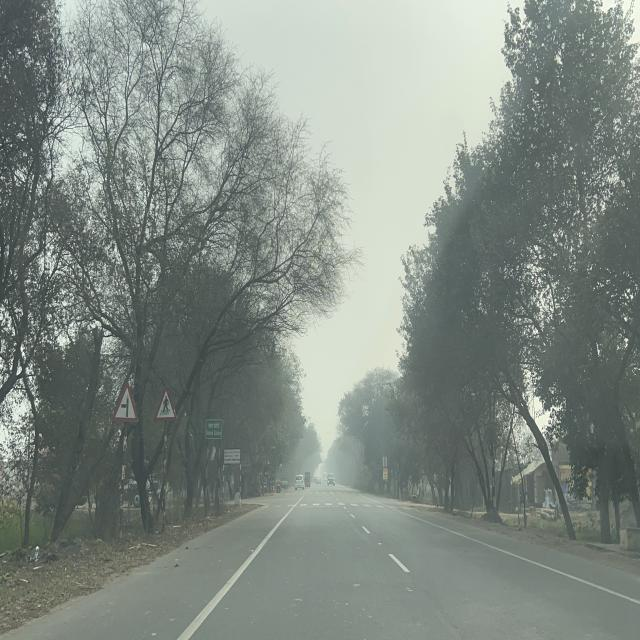GENERAL: (205, 418, 223, 440)
PEDESTRIAN_CROSSING: (153, 385, 178, 421)
SIDE_ROAD_LEFT: (112, 381, 139, 422)
